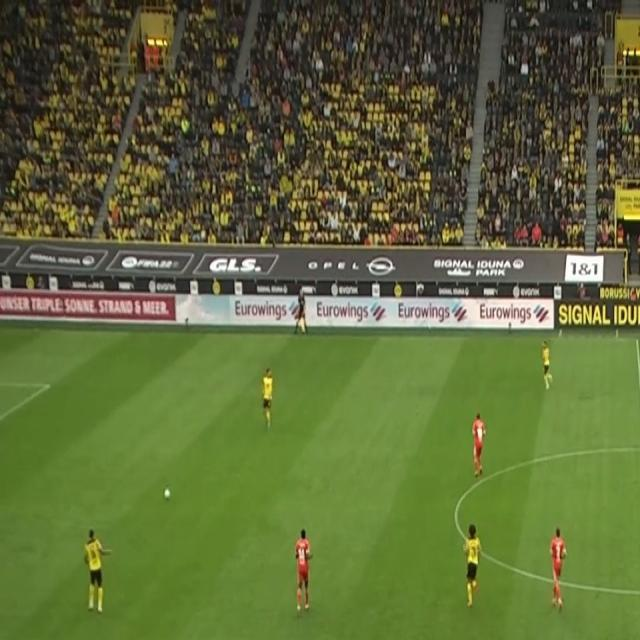ball: (162, 485, 171, 502)
